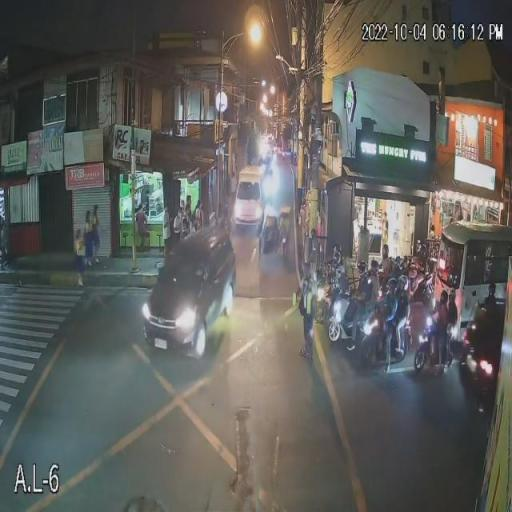helmet: (387, 277, 398, 297), (397, 275, 409, 293), (438, 289, 449, 305), (370, 260, 380, 275), (381, 244, 390, 260), (357, 261, 367, 275), (448, 286, 456, 301), (336, 265, 345, 276)
motorcycle: (357, 316, 412, 366), (413, 323, 456, 370), (328, 298, 358, 342)
rider: (346, 278, 368, 350), (383, 298, 397, 376), (396, 299, 412, 355), (437, 303, 448, 372), (446, 304, 458, 362), (366, 274, 380, 317)
